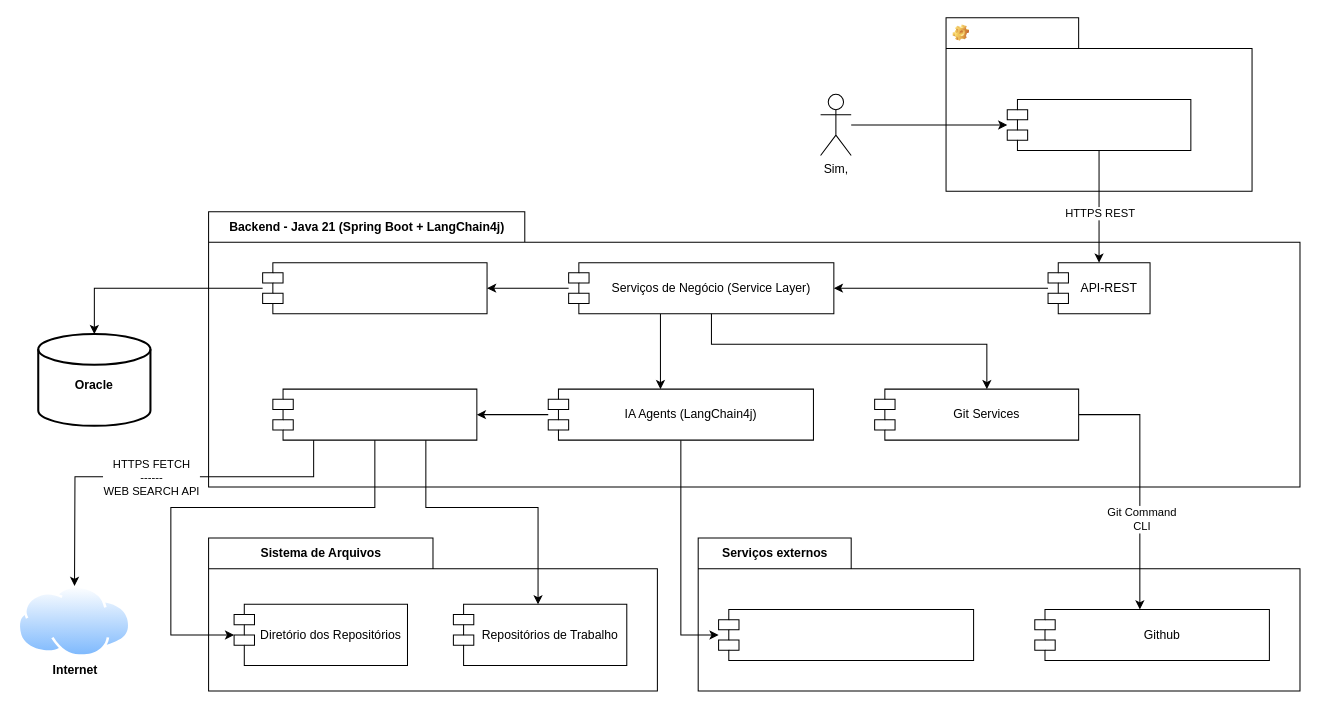
Some shapes in this 1318 by 709 pixel diagram are drawn without their labels. The shapes that lost their labels are listed below. From the top down, each one's centre as x and y in pixels, then its label:
At pixel 1012 32: "Frontend".
At pixel 1098 124: "Angular App ( Node js )".
At pixel 374 288: "Repositório de Dados (Data Layer)".
At pixel 374 414: "Ferramentas (Tools)".
At pixel 846 634: "Microsoft Foundry - LLM".
